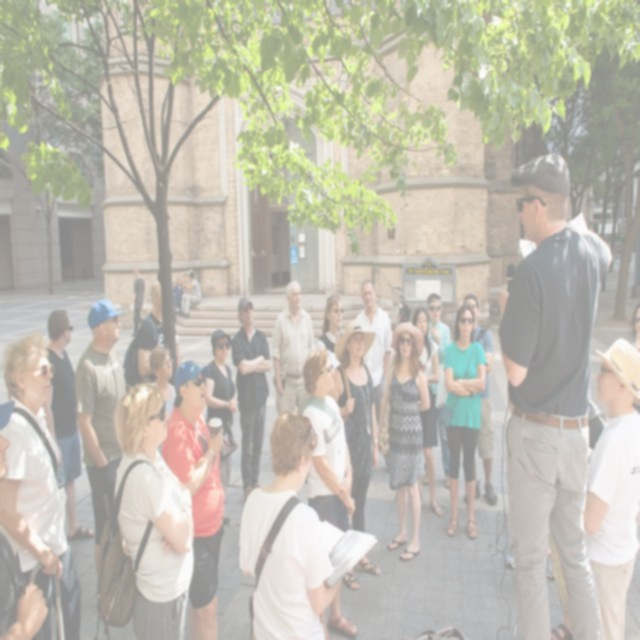pessoa: (491, 150, 614, 640), (90, 378, 196, 640), (0, 326, 87, 640), (237, 410, 343, 639), (156, 353, 229, 640), (322, 317, 385, 594), (584, 336, 640, 640), (301, 347, 358, 639), (73, 296, 129, 576), (376, 320, 431, 562), (0, 394, 52, 640), (41, 308, 95, 542), (442, 300, 488, 542), (229, 292, 274, 510), (463, 292, 499, 506), (121, 280, 183, 394), (412, 305, 444, 518), (271, 277, 316, 415), (422, 292, 451, 489), (204, 327, 238, 494), (355, 278, 392, 428), (148, 344, 177, 461), (314, 293, 346, 371), (177, 268, 202, 320), (131, 266, 145, 337), (172, 274, 188, 317), (628, 296, 640, 352), (632, 395, 640, 417)
